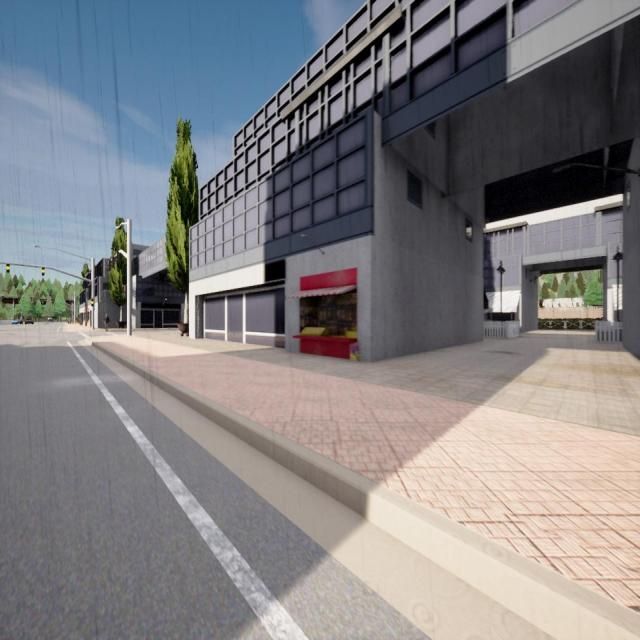Pedestrian: (104, 313, 110, 332)
Vehicle: (24, 316, 34, 324), (11, 319, 19, 325), (48, 316, 53, 323), (20, 319, 24, 325)
traffic_light: (116, 252, 120, 263), (124, 285, 127, 298), (6, 264, 10, 273), (112, 256, 115, 267), (91, 299, 94, 306), (108, 261, 110, 271), (42, 267, 44, 276), (42, 300, 44, 304), (32, 300, 34, 303), (54, 301, 55, 304)
